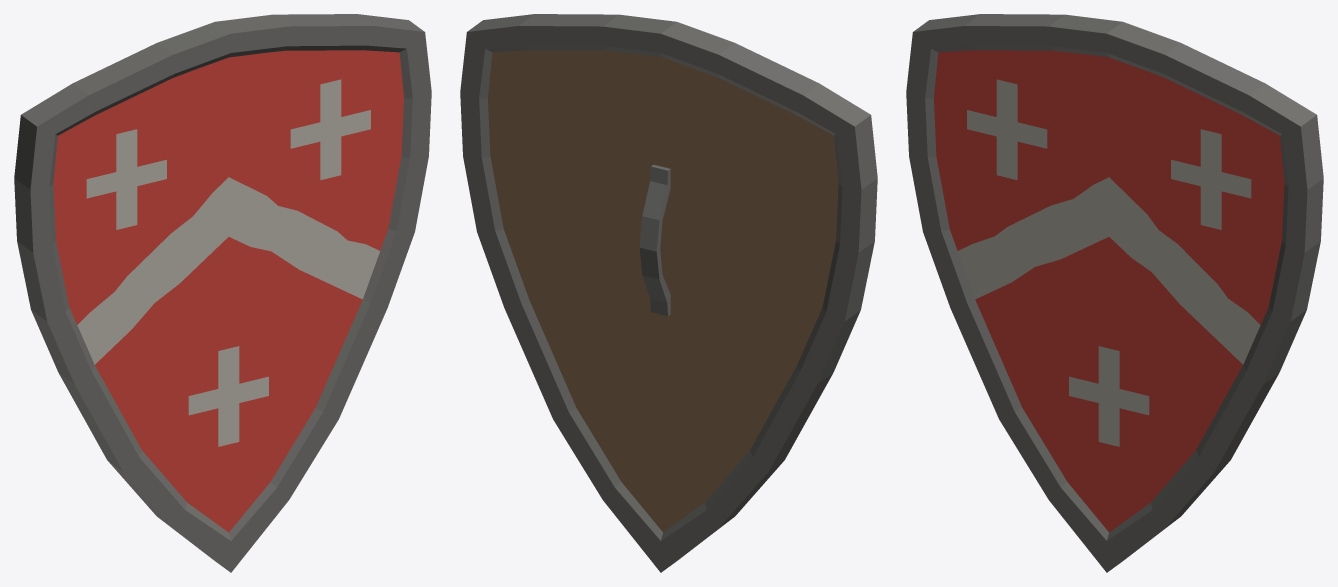
The model's file is SM_pwe_medieval_shield_03d.fbx.
The picture shows the model from 3 angles, left to right: view 1: azimuth 30°, elevation 25°; view 2: azimuth 150°, elevation 25°; view 3: azimuth 330°, elevation 25°; orthographic projection.
Parts seen in each view (by area): view 1: SM_pwe_medieval_shield_03d; view 2: SM_pwe_medieval_shield_03d; view 3: SM_pwe_medieval_shield_03d.
Boxes of the visible parts, box(x1,y1,x2,y2) form: SM_pwe_medieval_shield_03d: box(14, 14, 431, 572); SM_pwe_medieval_shield_03d: box(460, 14, 877, 572); SM_pwe_medieval_shield_03d: box(906, 14, 1323, 572).
Size of the model in its own units: 63.26 by 81.23 by 7.62.
